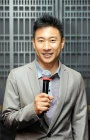male: (20, 14, 71, 77)
